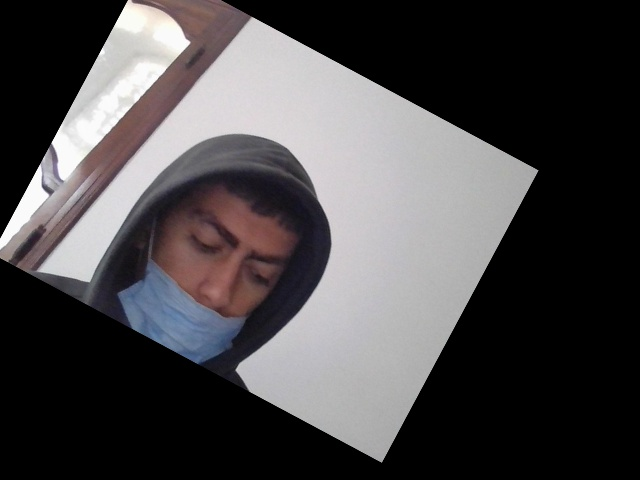mask_weared_incorrect: (119, 166, 310, 378)
